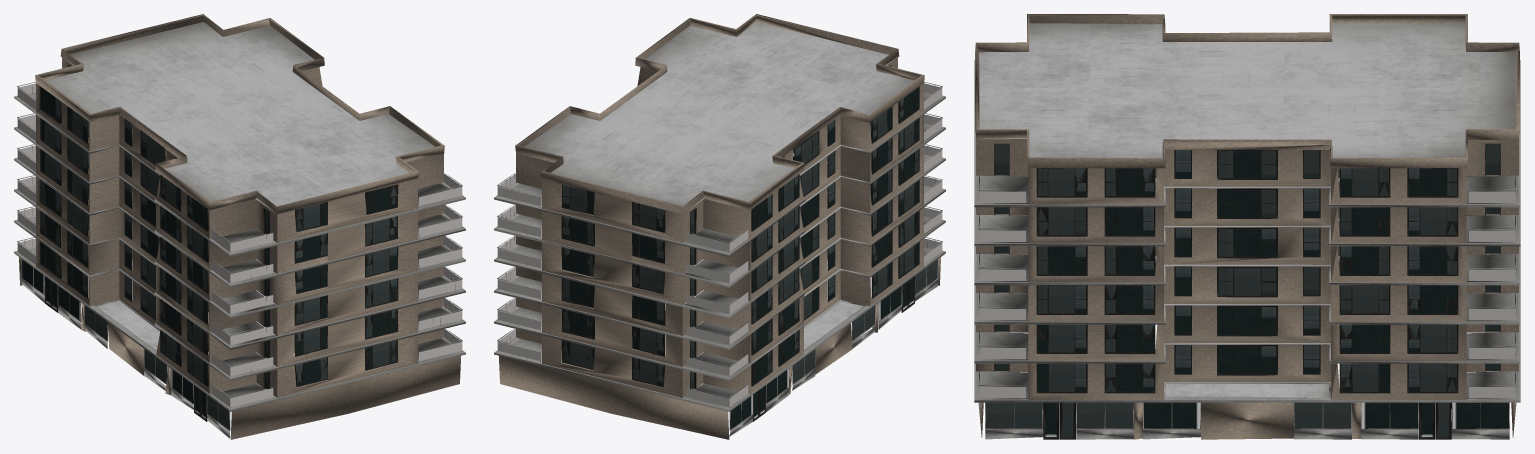
File: mid-3.glb
3 renders of one model, left to right at view 1: azimuth 30°, elevation 25°; view 2: azimuth 150°, elevation 25°; view 3: azimuth 270°, elevation 25°, orthographic. The views are drawn at different scales.
Visible parts, largest first — view 1: Mid_Rise_Building_3; view 2: Mid_Rise_Building_3; view 3: Mid_Rise_Building_3.
Part boxes in pixels (x1,y1,x2,y2): Mid_Rise_Building_3: (14,14,465,439); Mid_Rise_Building_3: (494,14,945,439); Mid_Rise_Building_3: (974,14,1520,439).
Bounding box in the file's own units: 20.52 × 18.71 × 32.72.
1 material, 1 textured.
